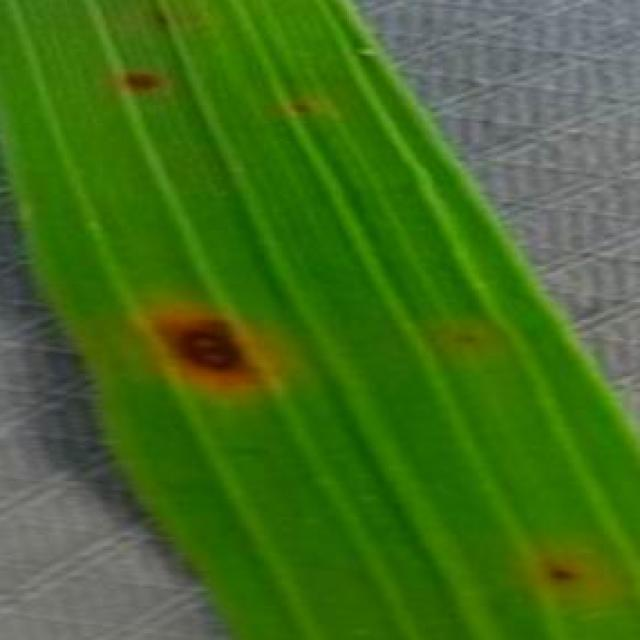Brown_Spot: (130, 284, 298, 416), (219, 440, 289, 474), (119, 69, 179, 103), (542, 564, 588, 596), (280, 94, 326, 125), (144, 4, 184, 36), (450, 329, 492, 358)
